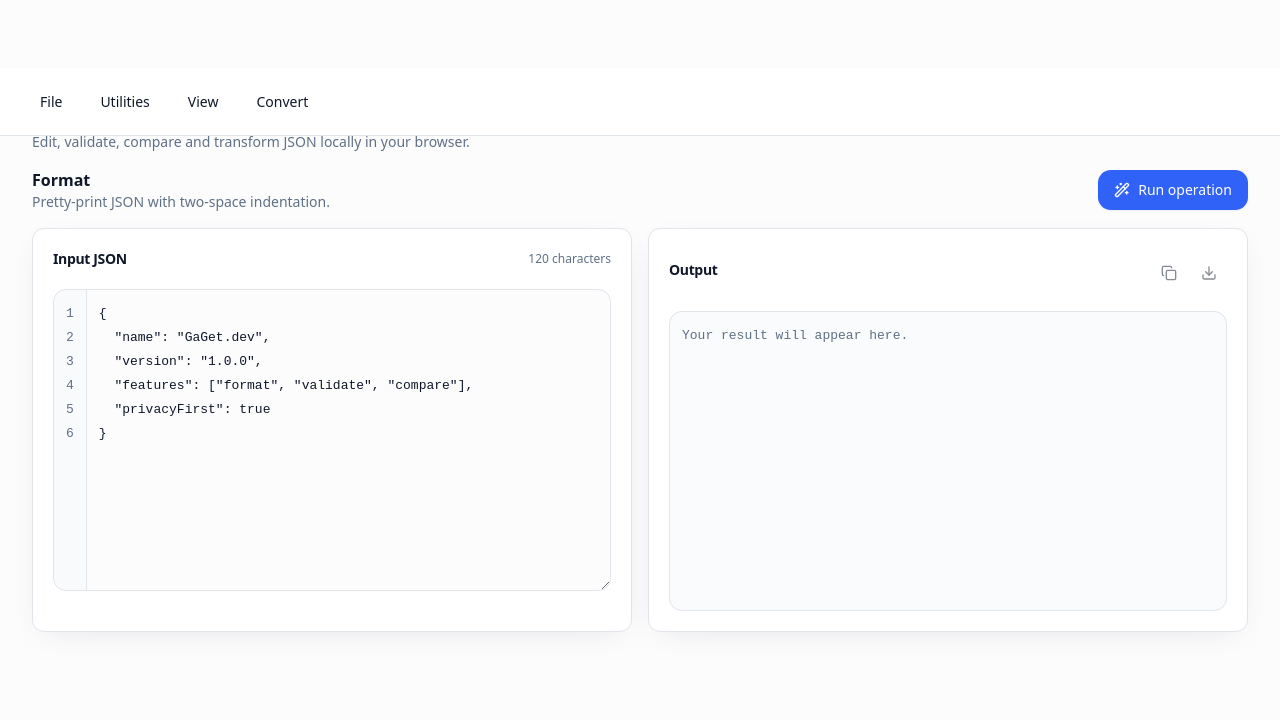
JSON workspace operations › keeps an empty unescaped string result copyable and downloadable
Click the button "Convert": coordinates (282, 102) [240,82,324,122]
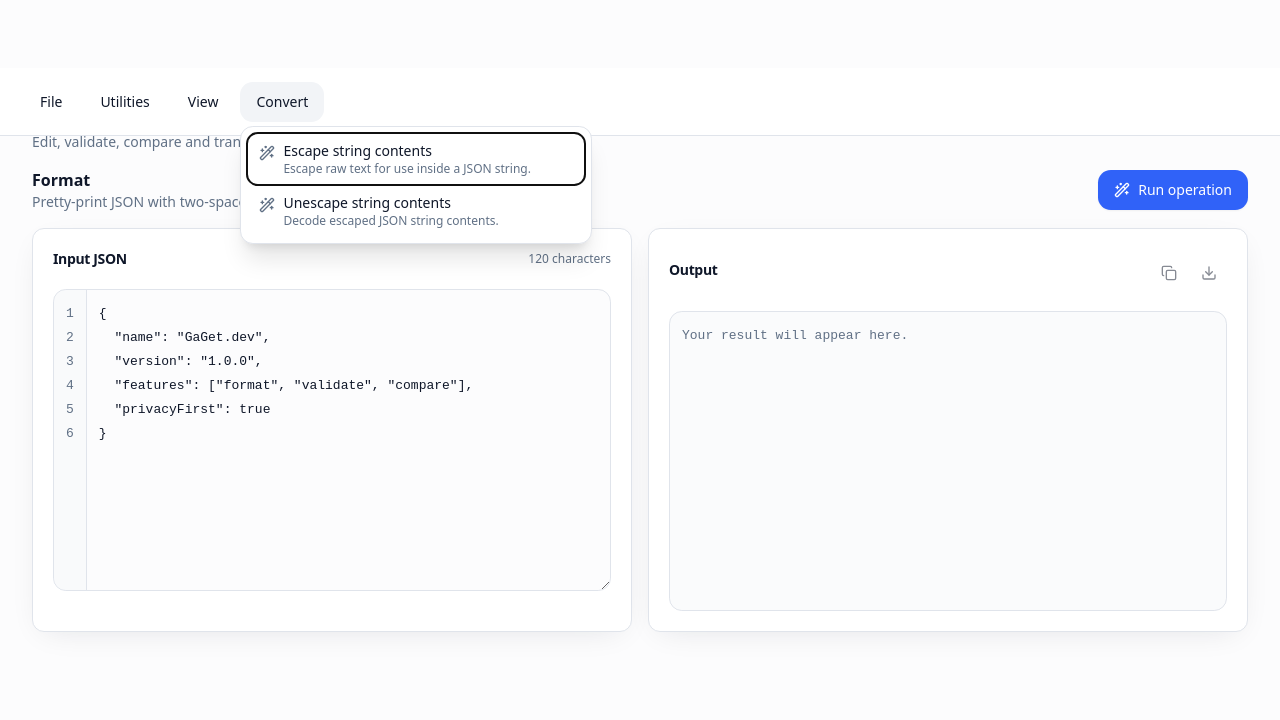
Click the menu item that starts with "Unescape string contents": coordinates (416, 210) [247,184,585,236]
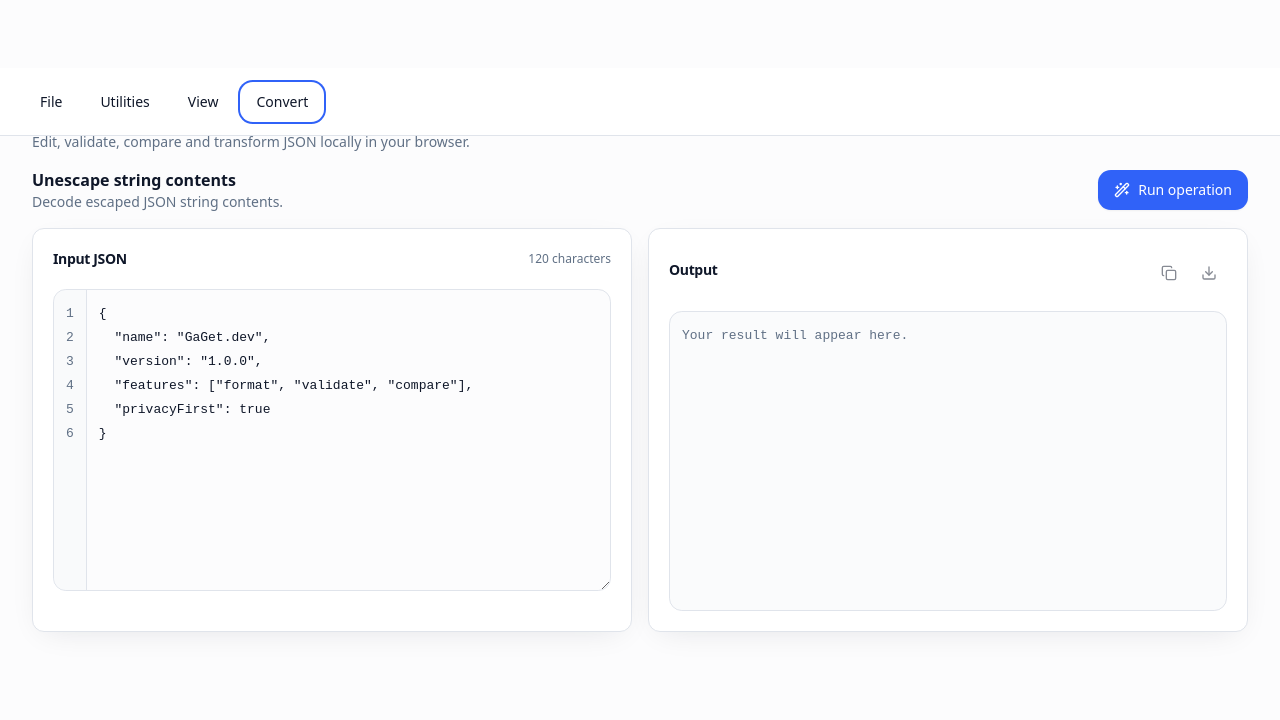
Clear the text box named "Input JSON": coordinates (348, 440) [87,290,610,590]
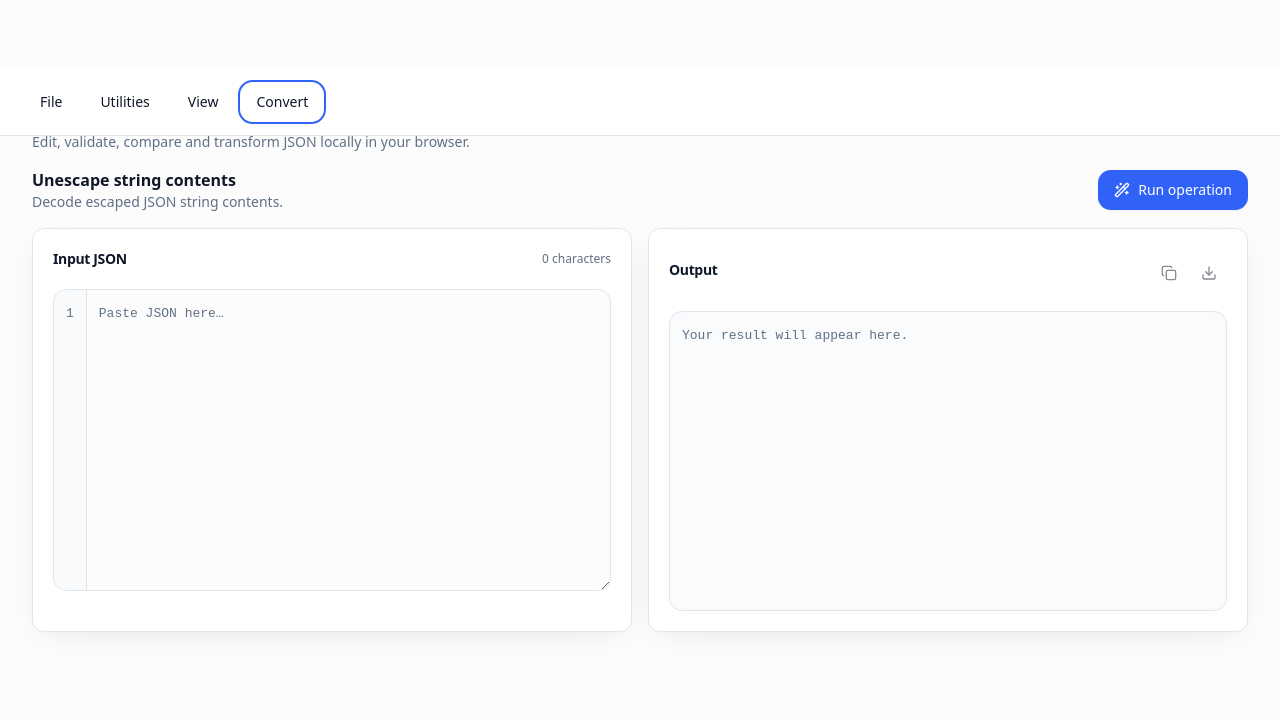
Click the button "Run operation": coordinates (1173, 190) [1098,170,1248,210]
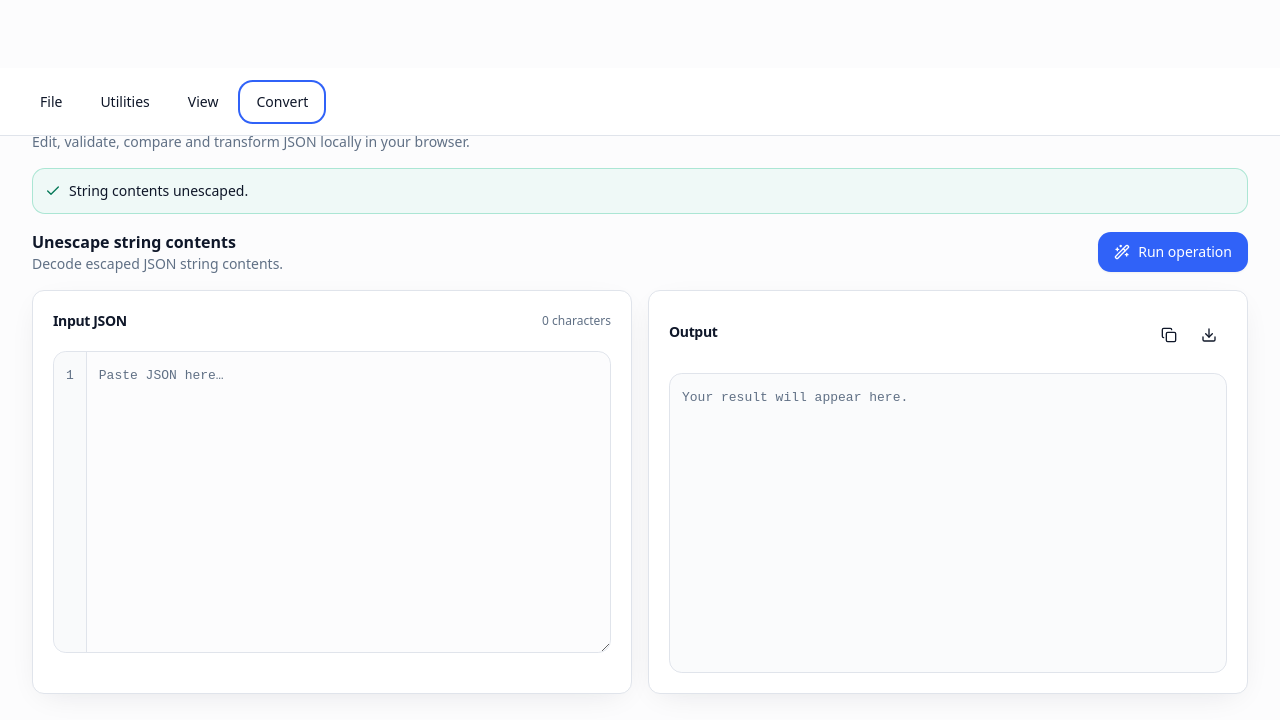
Check: the message shows "unescaped", box [69,181,248,200]
Check: the button named "Copy result" is enabled, box [1151,317,1187,353]
Check: the button named "Download text result" is enabled, box [1191,317,1227,353]
